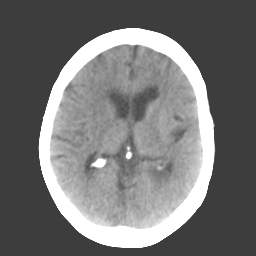ischemic: (83, 99, 108, 141)
